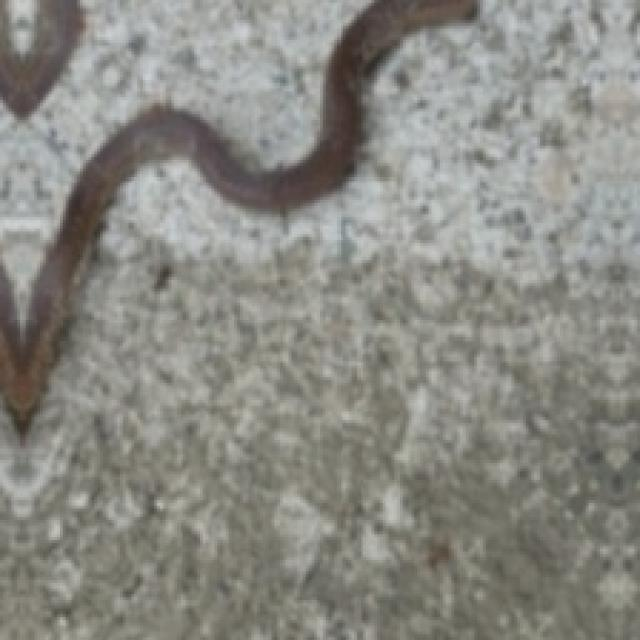gervais worm snake: (0, 0, 474, 440), (0, 0, 80, 114)
